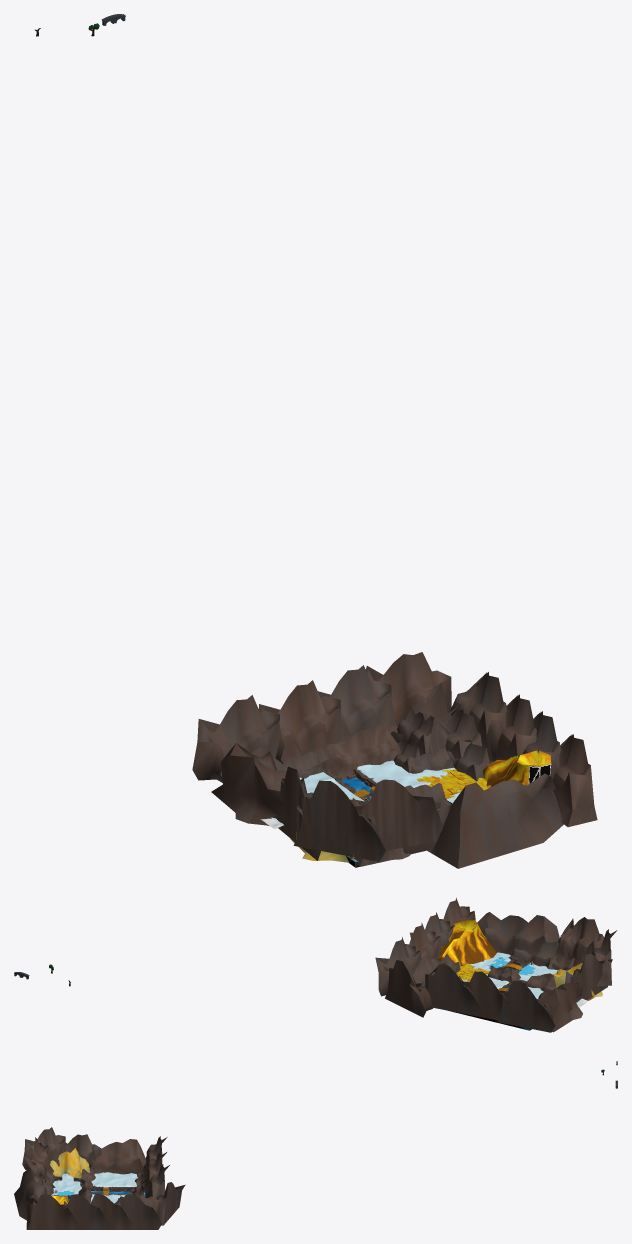
The model's file is Level1(2).FBX.
3 views of the same model, one above another, from view 1: azimuth 30°, elevation 25°; view 2: azimuth 150°, elevation 25°; view 3: azimuth 270°, elevation 25° (orthographic). The views are drawn at different scales.
Parts seen in each view (by area): view 1: MountainR007, MountainTR012, MountainTR009, MountainTR008, MountainR005, MountainTR010, MountainTR011, MountainTR007, MountainTR004, MountainTL001, MountainTR005, MountainTR006 (+5 smaller); view 2: MountainR007, MountainTR009, MountainTR007, Volcano001, MountainTR010, MountainTR011, MountainR005, MountainTR008, MountainTR006, MountainTR013, MountainTR005, MountainL005 (+9 smaller); view 3: MountainR005, MountainTR004, MountainTR003, MountainTR006, MountainR007, MountainTR012, MountainTR005, MountainTR011, Sphere002, MountainTR010, MountainTR013, Plane001 (+4 smaller).
Part boxes in pixels (x1,y1,x2,y2): MountainR007: (427, 773, 563, 868); MountainTR012: (293, 780, 385, 861); MountainTR009: (192, 695, 282, 782); MountainTR008: (259, 680, 346, 764); MountainR005: (211, 743, 286, 828); MountainTR010: (350, 779, 443, 857); MountainTR011: (365, 652, 451, 726); MountainTR007: (318, 665, 397, 741); MountainTR004: (550, 734, 597, 827); MountainTL001: (321, 725, 401, 779); MountainTR005: (486, 694, 536, 763); MountainTR006: (450, 672, 506, 749); MountainR007: (477, 912, 559, 960); MountainTR009: (497, 981, 555, 1032); MountainTR007: (425, 964, 480, 1016); Volcano001: (436, 920, 496, 966); MountainTR010: (555, 917, 604, 966); MountainTR011: (385, 960, 433, 1017); MountainR005: (537, 982, 582, 1032); MountainTR008: (461, 971, 509, 1020); MountainTR006: (375, 937, 421, 996); MountainTR013: (565, 953, 612, 1002); MountainTR005: (405, 922, 441, 959); MountainL005: (508, 942, 558, 969); MountainR005: (89, 1139, 145, 1175); MountainTR004: (26, 1194, 77, 1229); MountainTR003: (60, 1194, 108, 1229); MountainTR006: (114, 1194, 162, 1229); MountainR007: (14, 1167, 47, 1220); MountainTR012: (22, 1127, 66, 1169); MountainTR005: (90, 1194, 131, 1229); MountainTR011: (153, 1182, 185, 1225); Sphere002: (50, 1148, 90, 1178); MountainTR010: (24, 1137, 54, 1181); MountainTR013: (60, 1134, 101, 1173); Plane001: (91, 1172, 137, 1190).
Size of the model in its own units: 1158 by 1025 by 3102.
